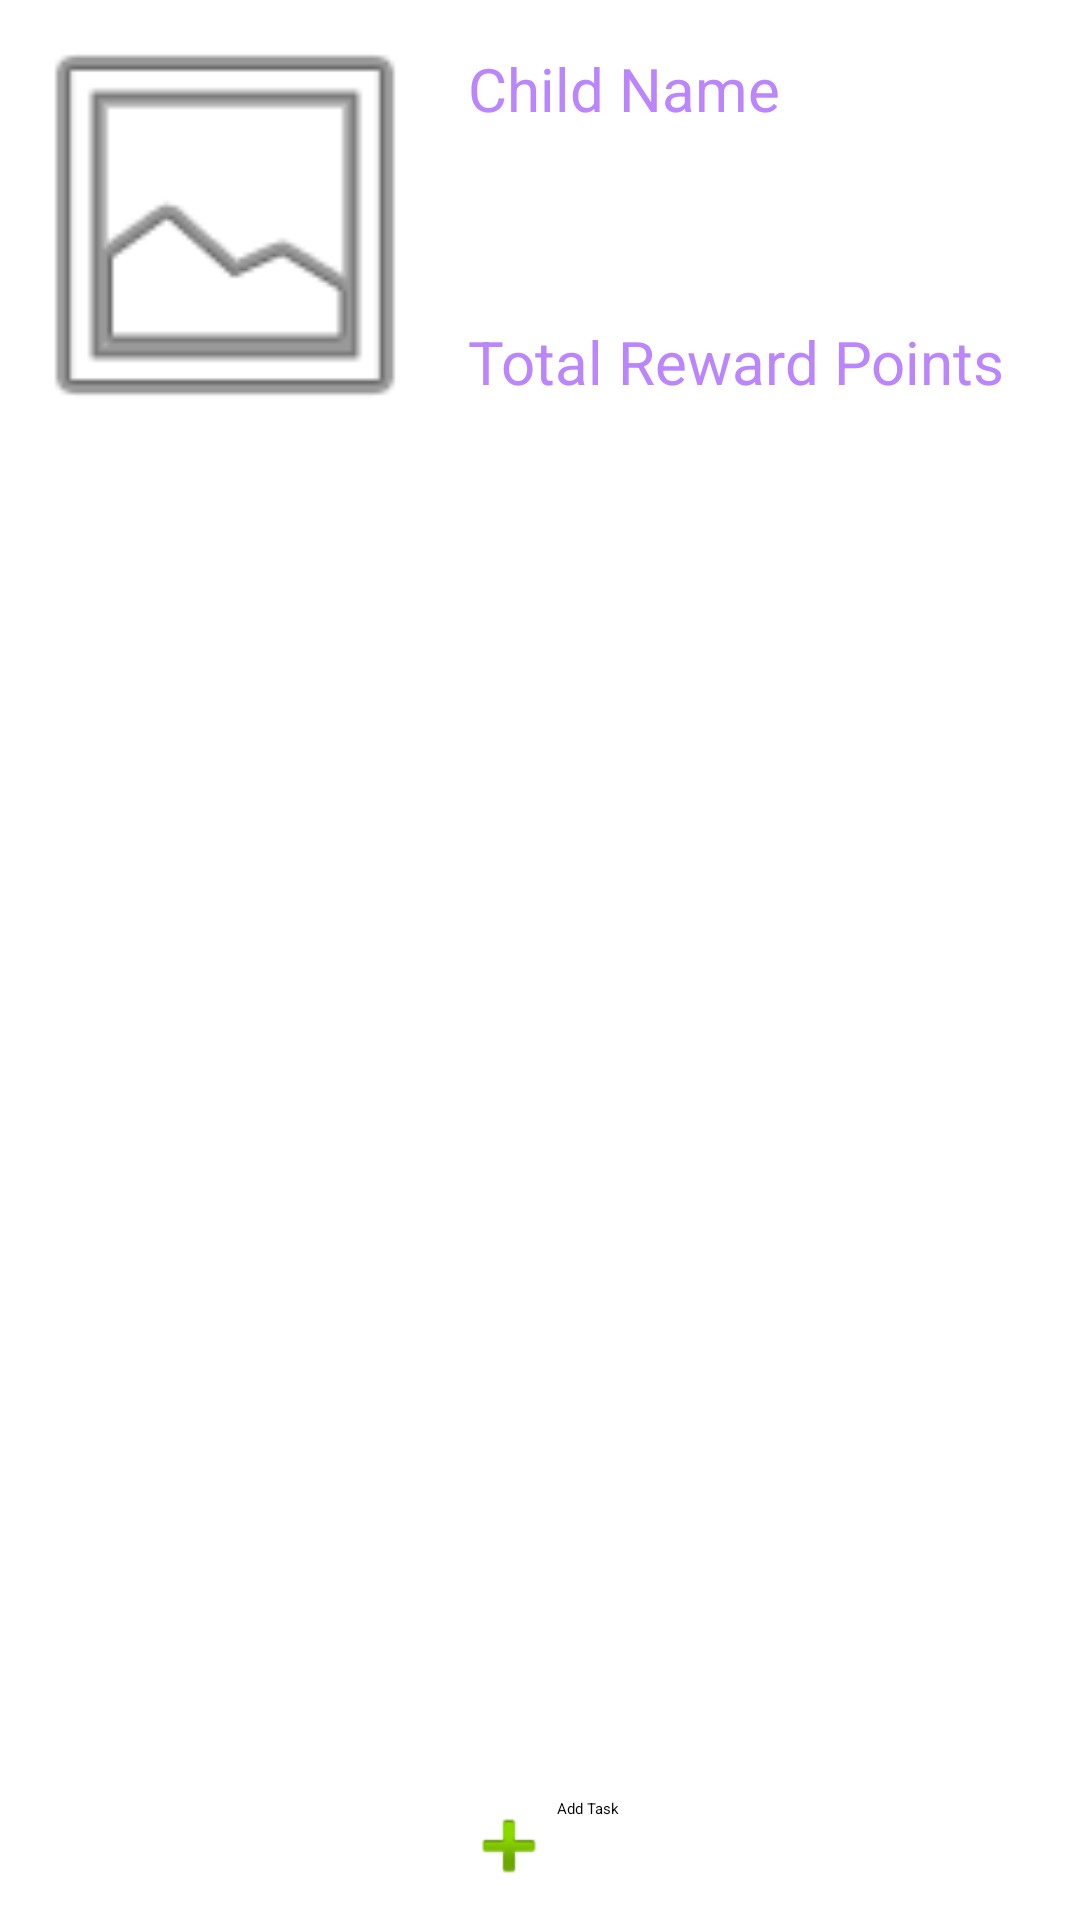

Screen size 1080px×1920px. Icon name, then its box in pixels as (x1, y1, x2, y2):
gallery: (55, 55, 395, 395)
